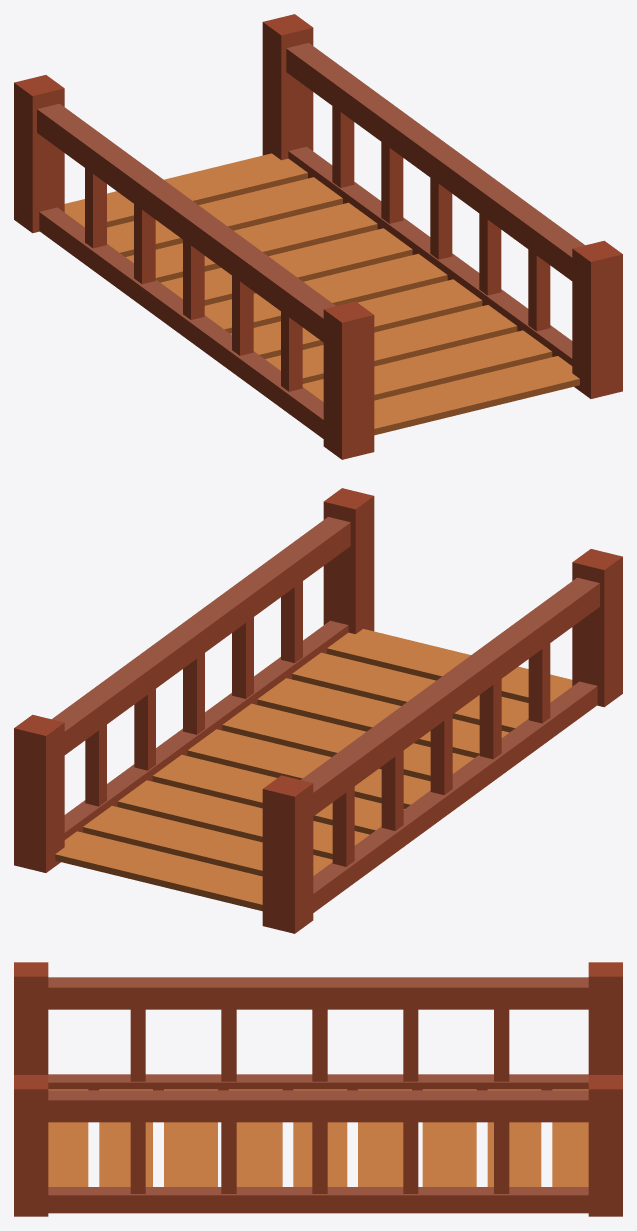
Rendered from Bridge.fbx.
3 renders of one model, top to bottom at view 1: azimuth 30°, elevation 25°; view 2: azimuth 150°, elevation 25°; view 3: azimuth 270°, elevation 25°, orthographic. The views are drawn at different scales.
Visible parts, largest first — view 1: Bridge; view 2: Bridge; view 3: Bridge.
Part boxes in pixels (bbox=[...]): Bridge: bbox=[14, 14, 622, 459]; Bridge: bbox=[14, 488, 622, 933]; Bridge: bbox=[14, 962, 622, 1216].
Size of the model in its own units: 226 by 105 by 456.
